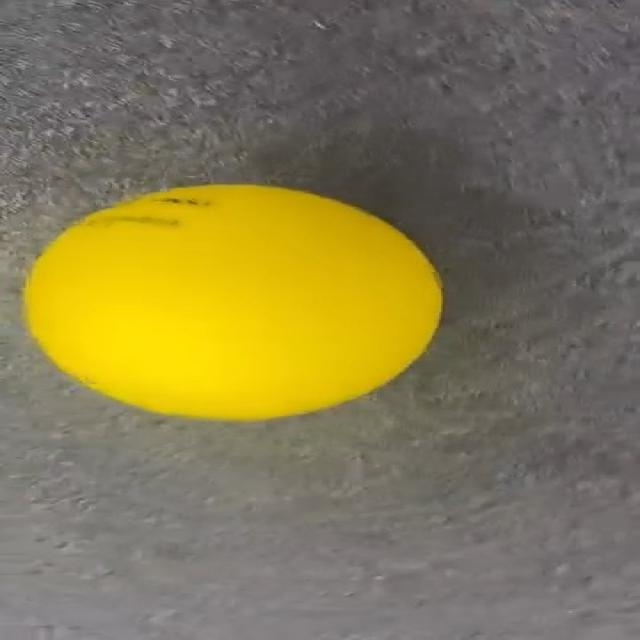Fuels: (25, 185, 439, 422)
